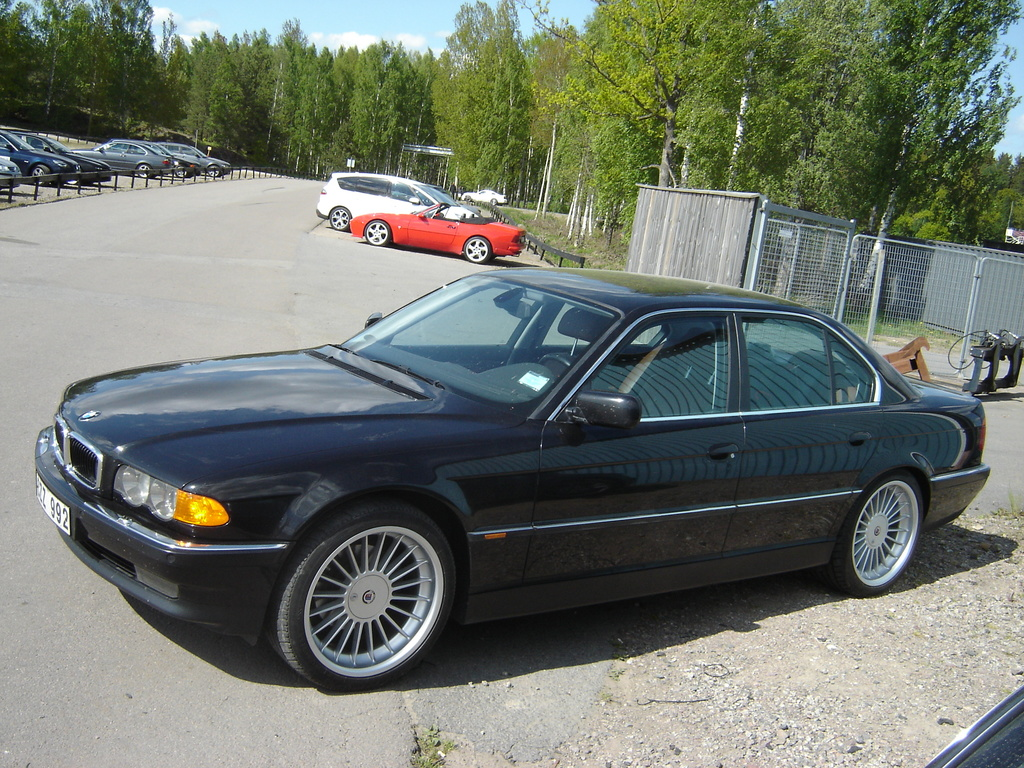Car: (33, 264, 990, 690), (348, 203, 524, 260), (314, 178, 456, 229), (17, 133, 112, 179), (0, 130, 80, 182), (72, 138, 172, 177), (162, 145, 229, 176), (147, 142, 199, 178), (460, 190, 506, 206), (0, 157, 21, 186)
